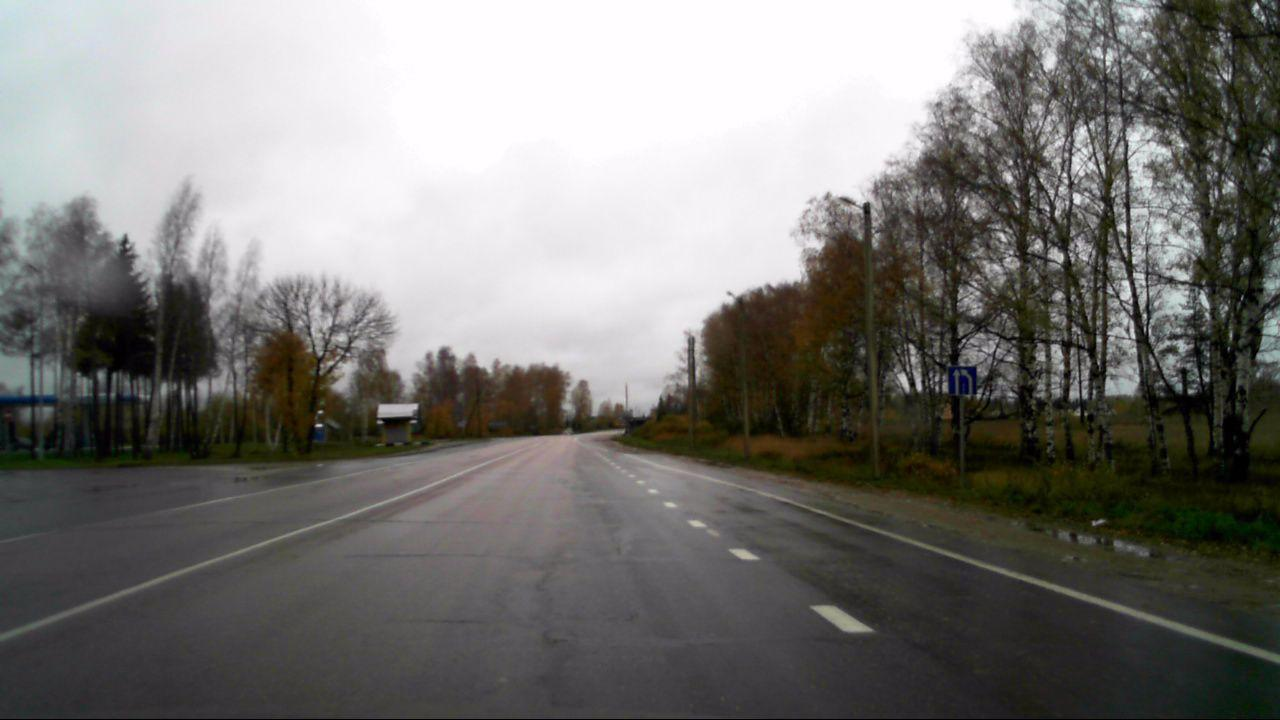5_15_5: (947, 366, 977, 396)
